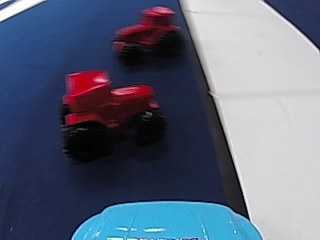tractor: (55, 67, 165, 162), (108, 3, 182, 65)
